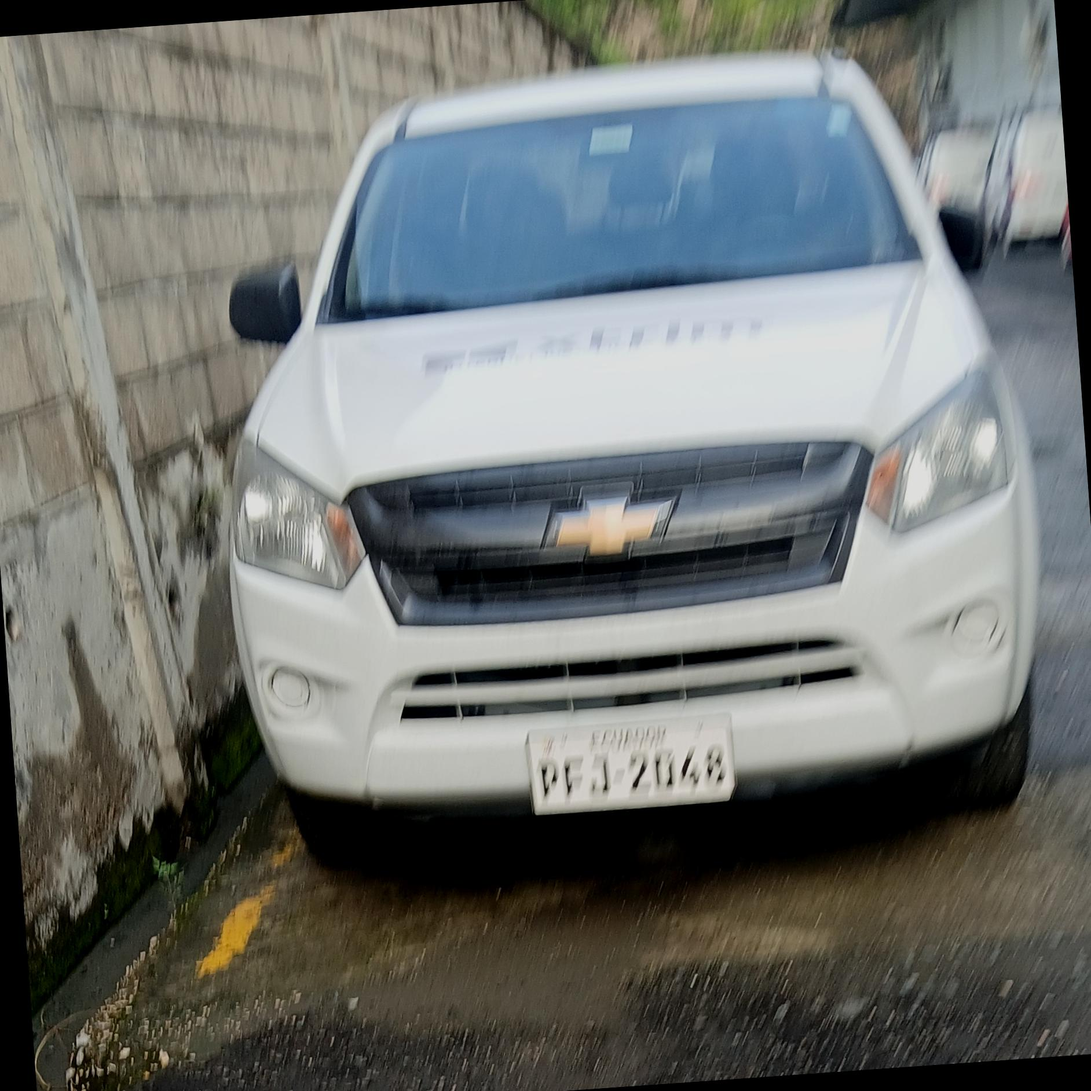license_plate: (523, 713, 740, 816)
